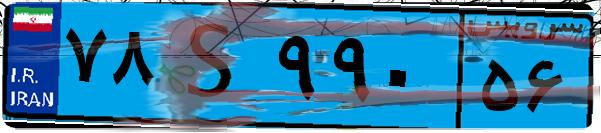0: (385, 28, 445, 110)
5: (475, 38, 525, 113)
6: (525, 38, 570, 115)
7: (57, 26, 110, 100)
8: (110, 28, 158, 98)
9: (270, 28, 330, 110), (330, 28, 385, 110)
S: (158, 12, 270, 120)
